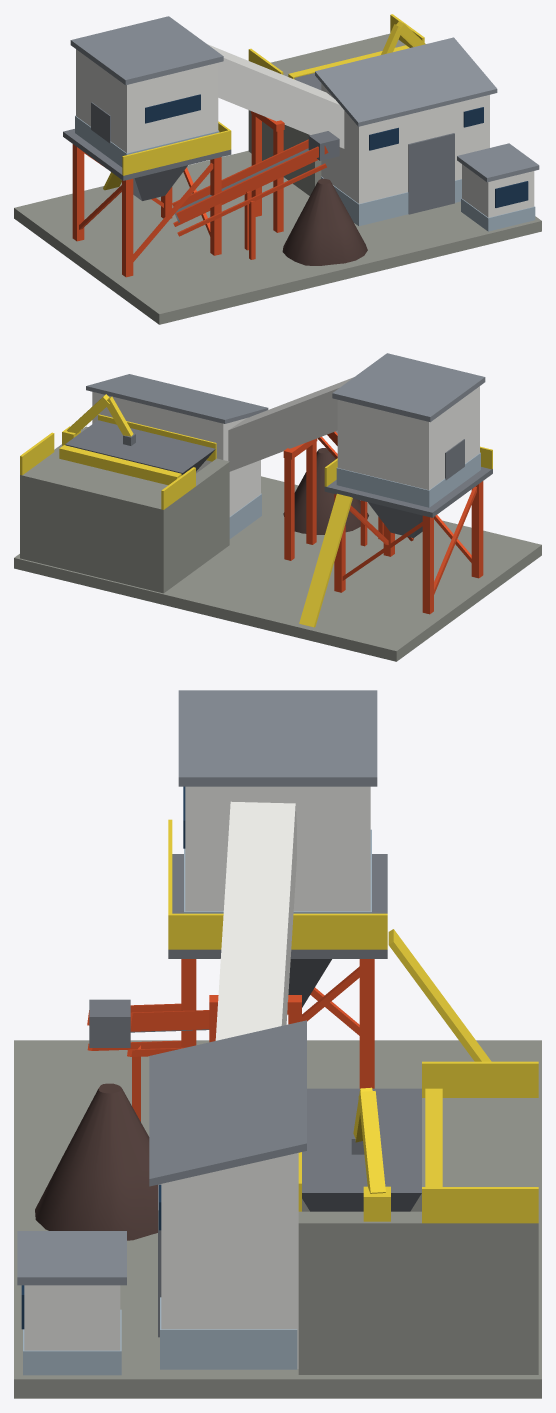
The model's file is site_crusher.fbx.
3 views of the same model, one above another, from view 1: azimuth 30°, elevation 25°; view 2: azimuth 150°, elevation 25°; view 3: azimuth 270°, elevation 25° (orthographic). The views are drawn at different scales.
Visible parts, largest first — view 1: a1022/0/site_crusher; view 2: a1022/0/site_crusher; view 3: a1022/0/site_crusher.
Part boxes in pixels (left/top/right/bottom): a1022/0/site_crusher: left=14, top=14, right=541, bottom=324; a1022/0/site_crusher: left=14, top=353, right=541, bottom=661; a1022/0/site_crusher: left=14, top=690, right=541, bottom=1398.
Bounding box in the file's own units: 23.4 × 12.2 × 15.4.
